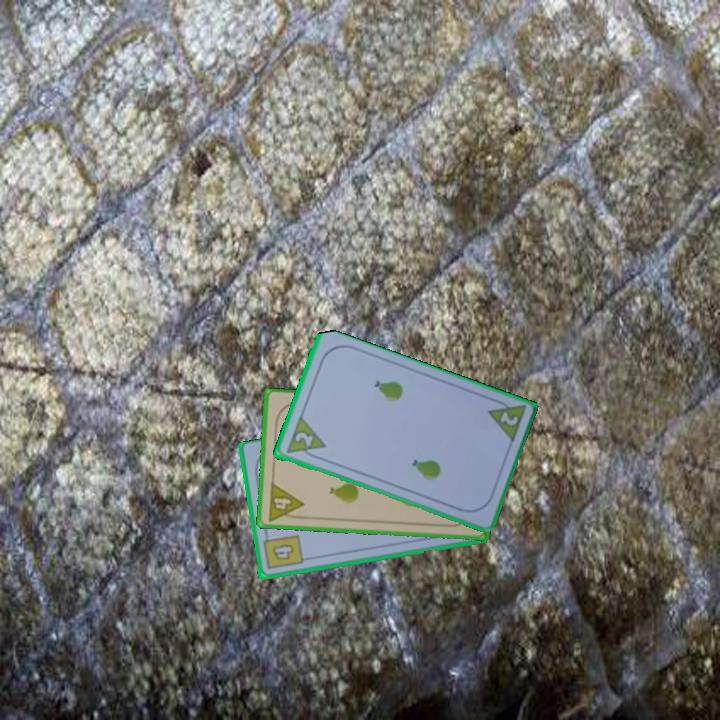2p: (282, 414, 328, 463), (496, 408, 521, 429)
4b: (259, 530, 305, 573)
4p: (264, 479, 306, 524)
